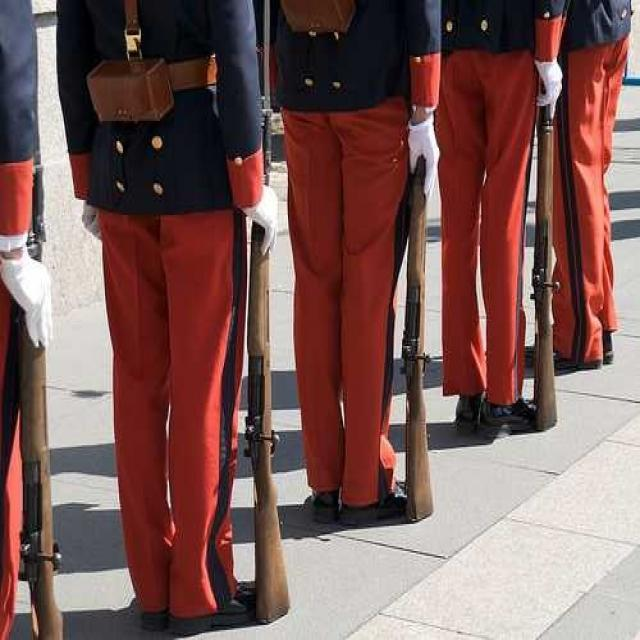weapon: (235, 104, 318, 620), (11, 193, 80, 640), (399, 87, 453, 531), (530, 69, 578, 438)
